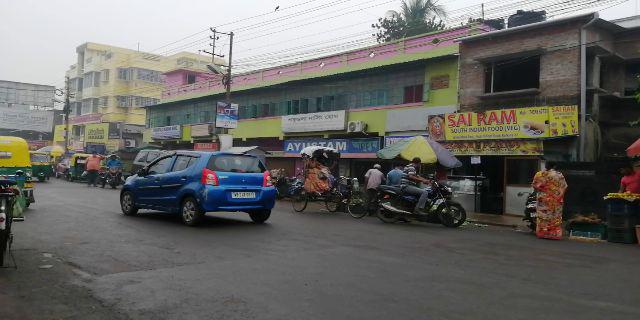Car: (117, 151, 279, 221)
Motorbike: (379, 156, 469, 232)
Rickshaw: (287, 140, 370, 224)
Truck: (1, 134, 37, 210)
